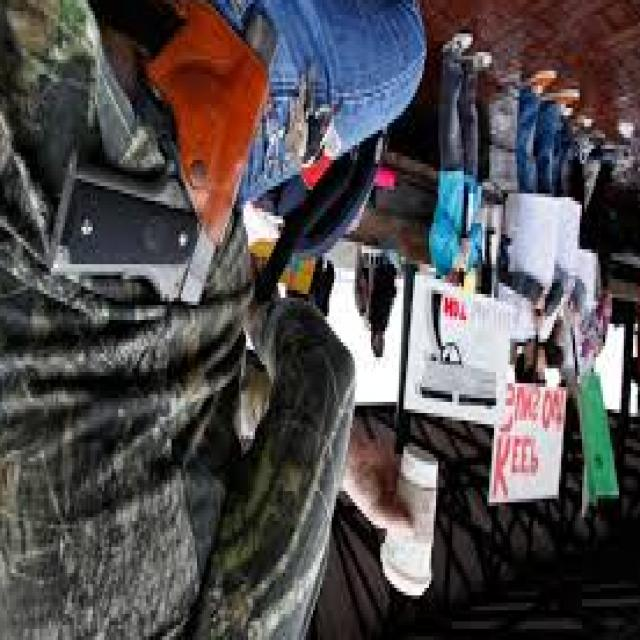gun: (30, 14, 300, 338)
